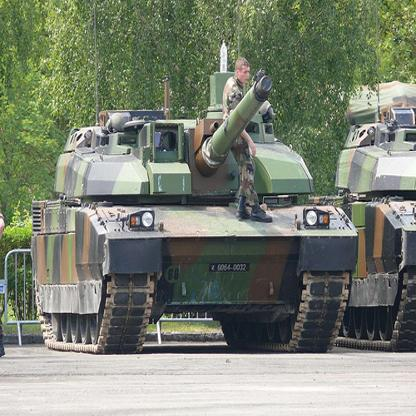Tank: (30, 69, 362, 368)
